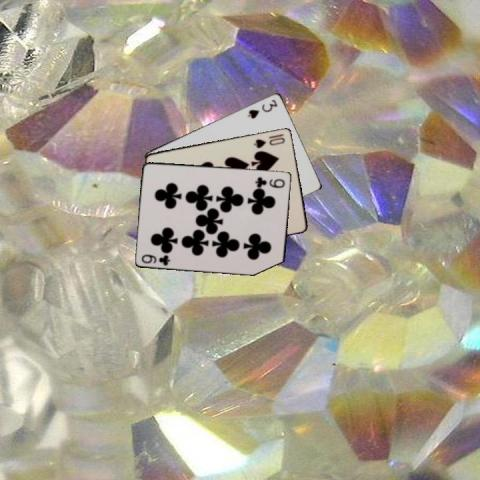10s: (251, 134, 287, 149)
3s: (245, 96, 279, 120)
9c: (139, 251, 172, 267), (252, 174, 286, 188)
